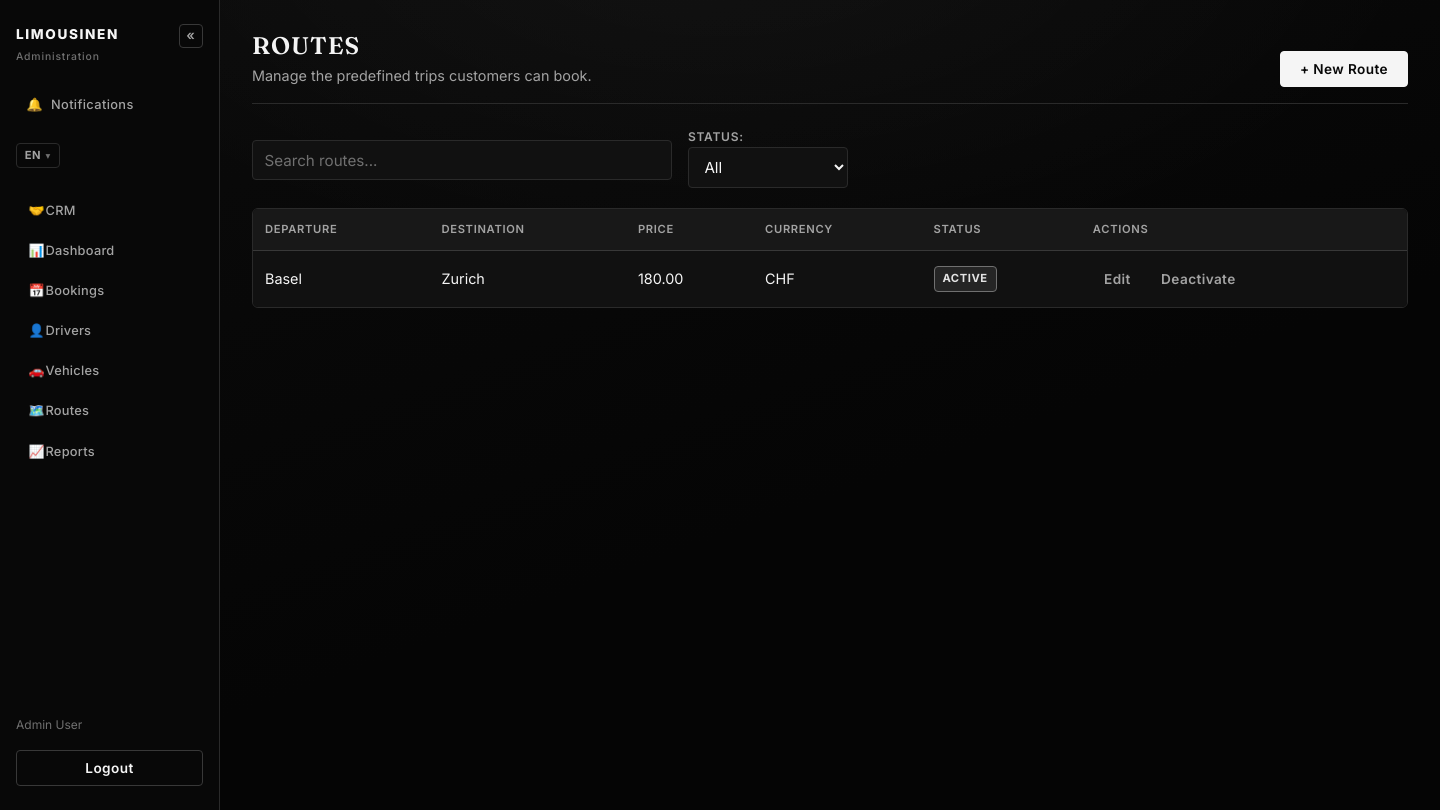
Test: RoutesPage › edits an existing route
Expected: the text "Zurich" is shown, [430,251,626,307]
Click the button "Edit".
click(1117, 279)  # box [1093,263,1142,295]
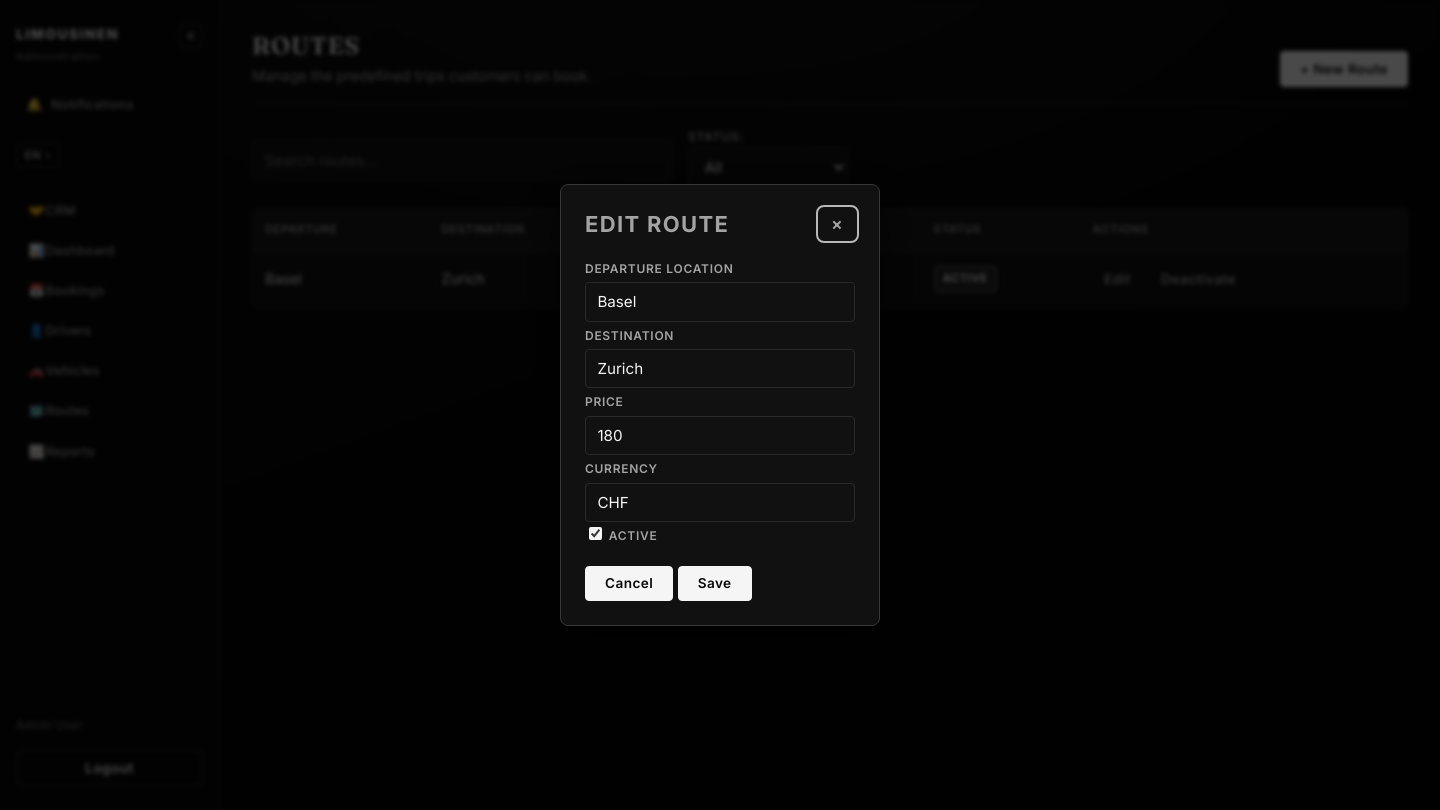
Replace the text in the field labelled "Destination" with "Bern" at x=720, y=369, box [585,349,855,388]
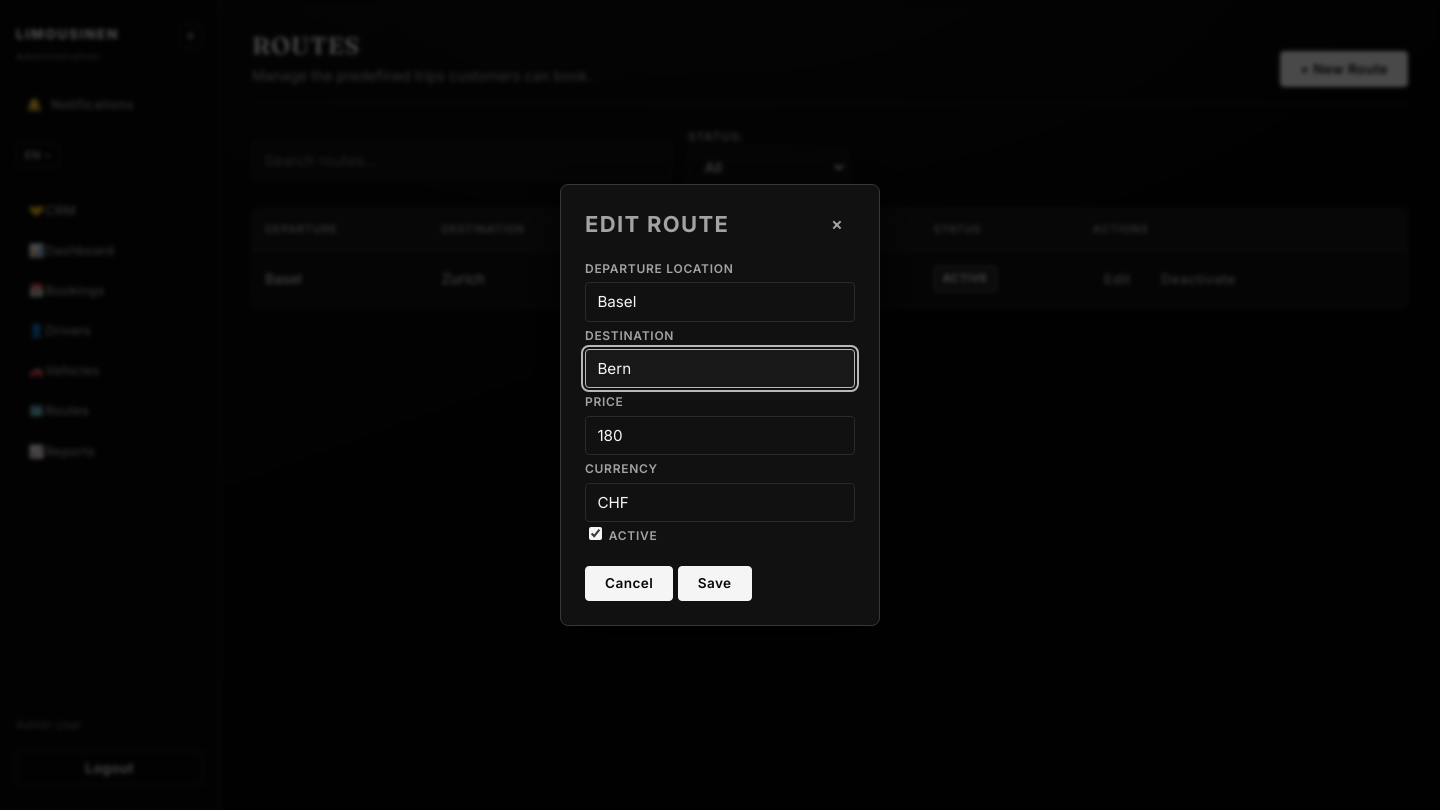
Click the button "Save".
click(715, 583)  # box [678,566,752,601]
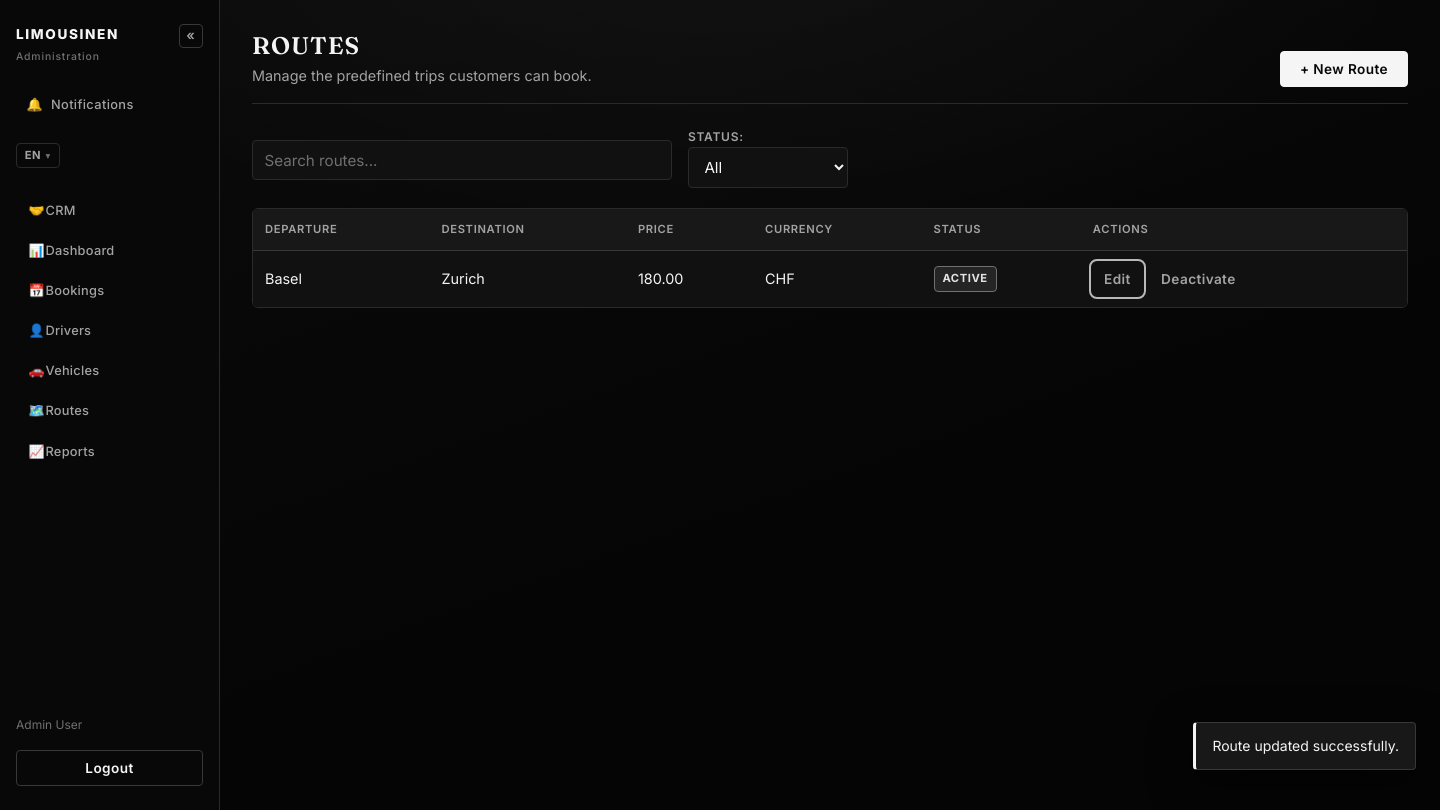
Expected: the message reads "Route updated successfully.", [1212,737,1399,754]
